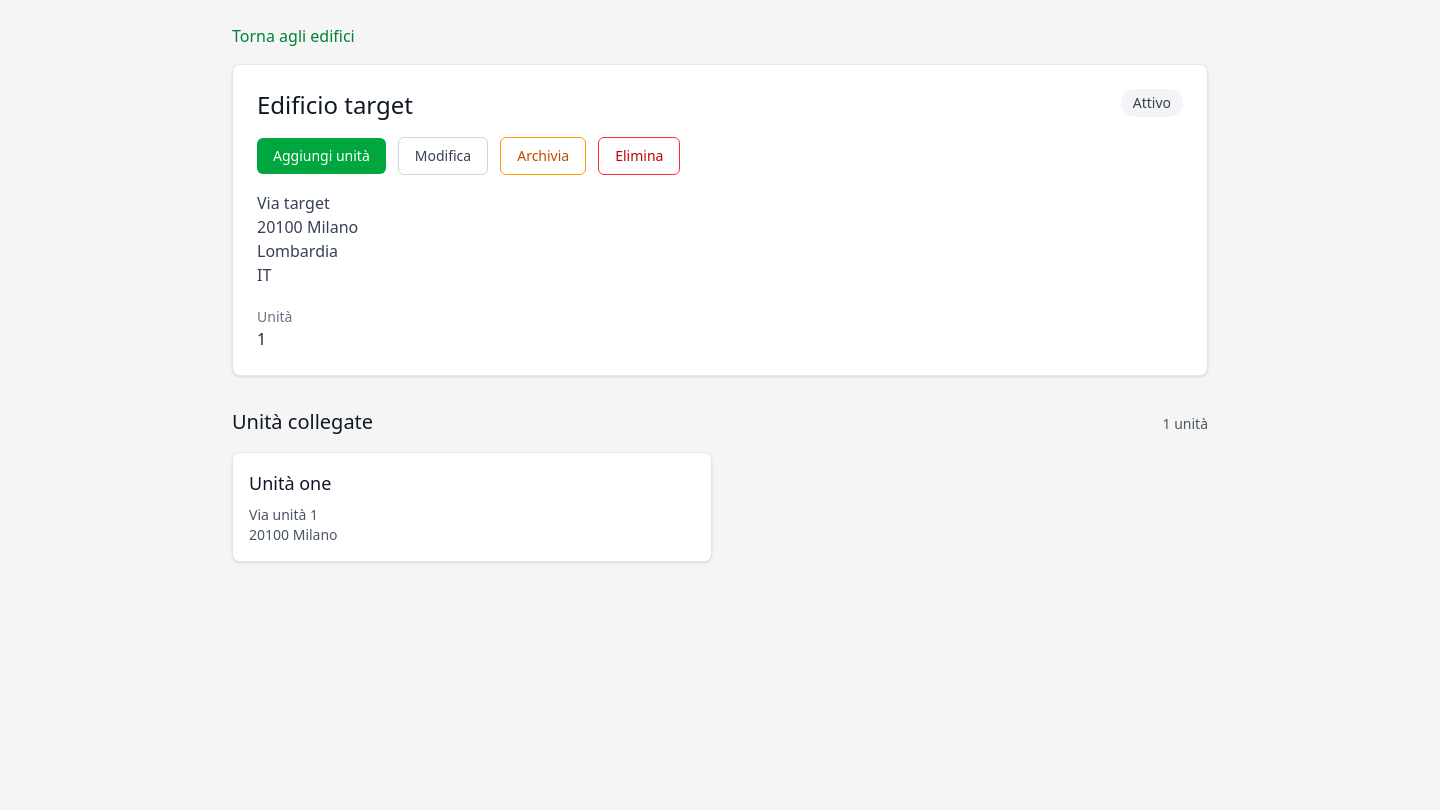
A6.4 Building detail lifecycle › archivia realmente con unità collegata senza modificare la Property
The image size is (1440, 810).
Click the button "Archivia".
click(543, 156)  # box [500,137,586,175]
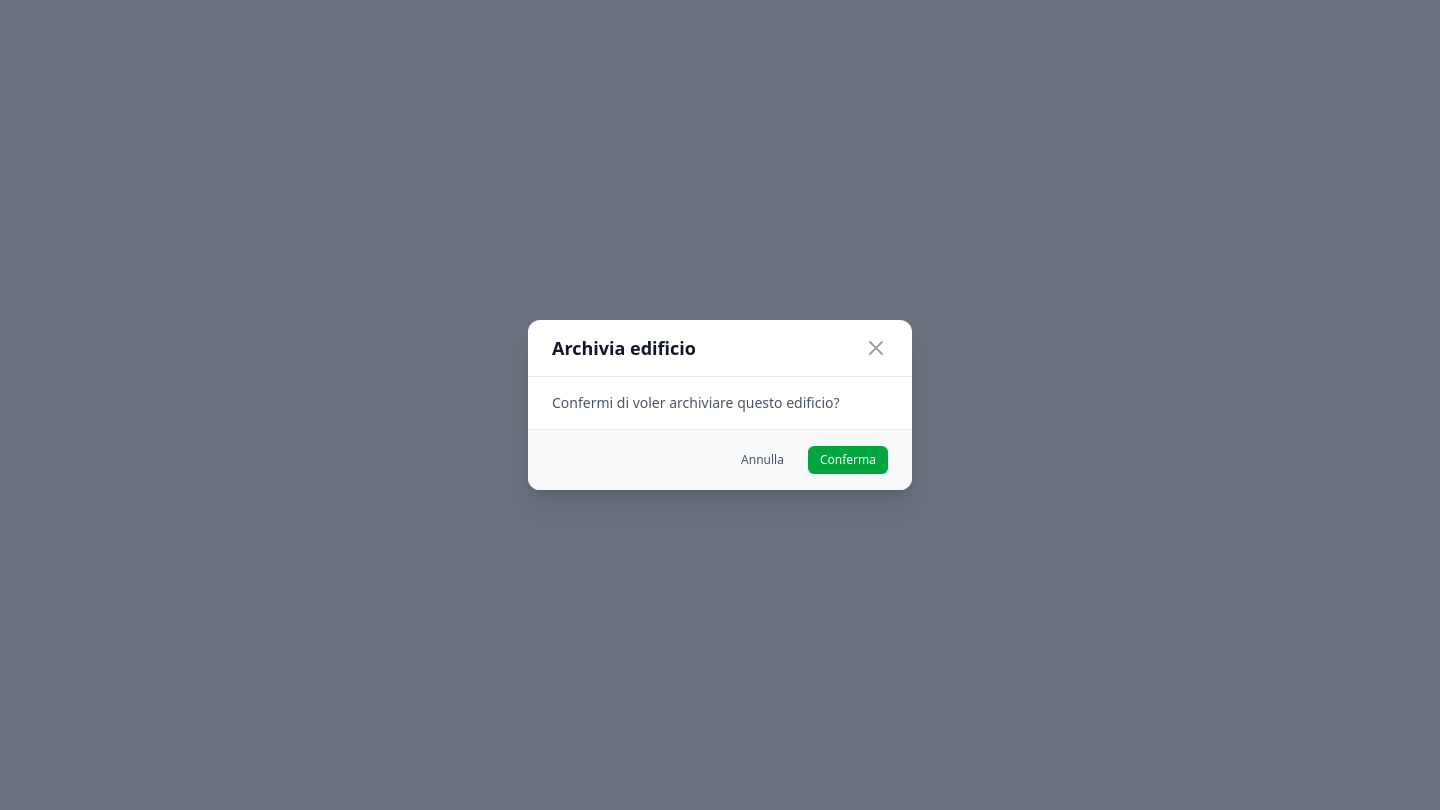
Expected: the heading "Archivia edificio" is shown, [552,336,696,360]
Click the button "Conferma".
click(848, 460)  # box [808,446,888,474]
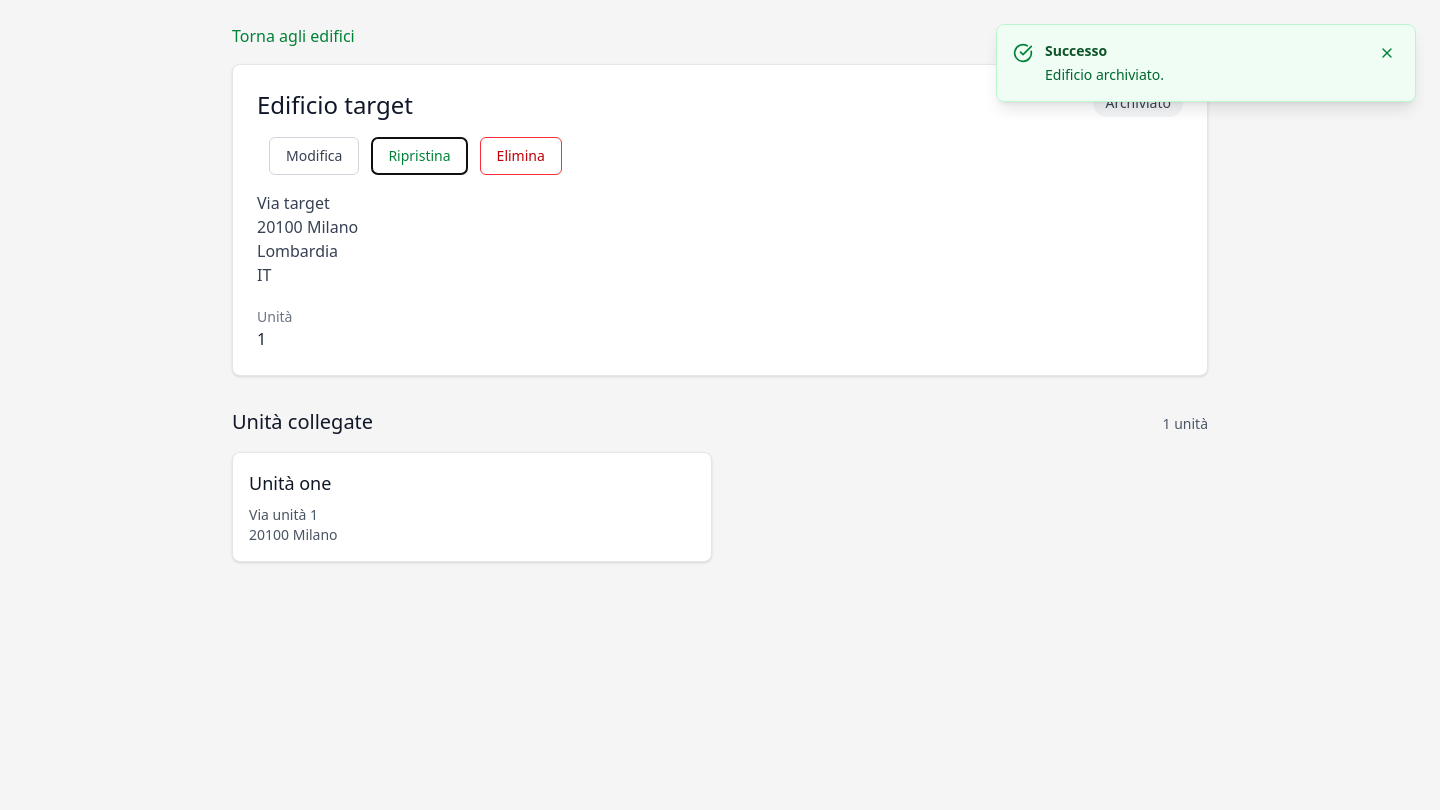
Expected: the text "Edificio archiviato." is shown, [1045,65,1164,84]
Expected: the text "Archiviato" is shown, [1094,89,1183,117]
Expected: the button "Ripristina" is shown, [371,137,468,175]
